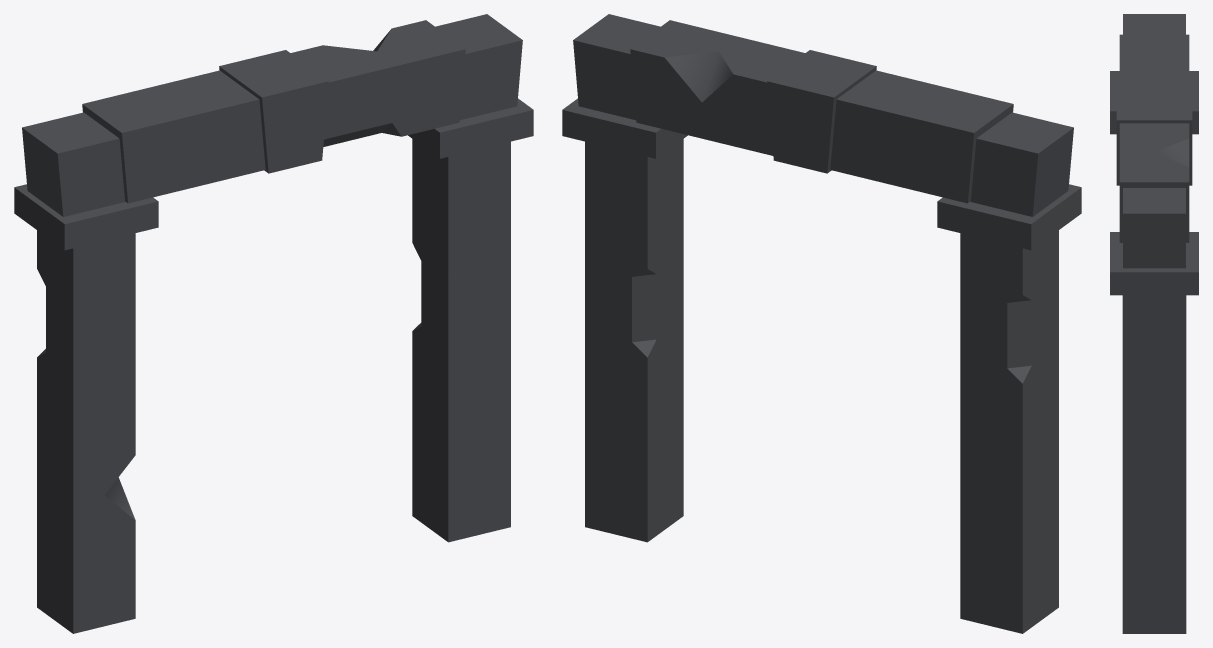
The picture shows the model from 3 angles, left to right: view 1: azimuth 30°, elevation 25°; view 2: azimuth 150°, elevation 25°; view 3: azimuth 270°, elevation 25°; orthographic projection. The views are drawn at different scales.
Parts seen in each view (by area): view 1: Archway3; view 2: Archway3; view 3: Archway3.
Part boxes in pixels (box(x1,y1,x2,y2)): Archway3: box(14, 14, 533, 633); Archway3: box(562, 14, 1081, 633); Archway3: box(1110, 14, 1198, 633).
Bounding box in the file's own units: 750 × 754 × 140.
1 material, 1 textured.
